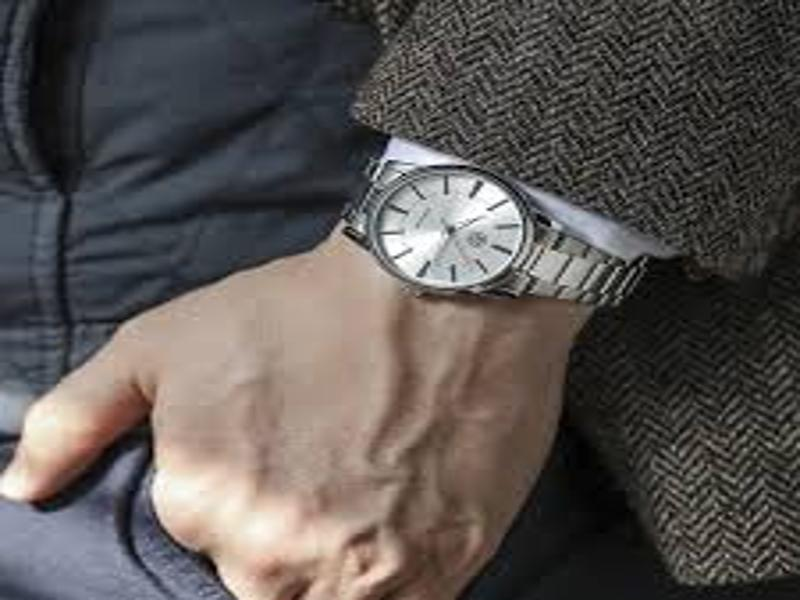watch: (328, 150, 648, 309)
